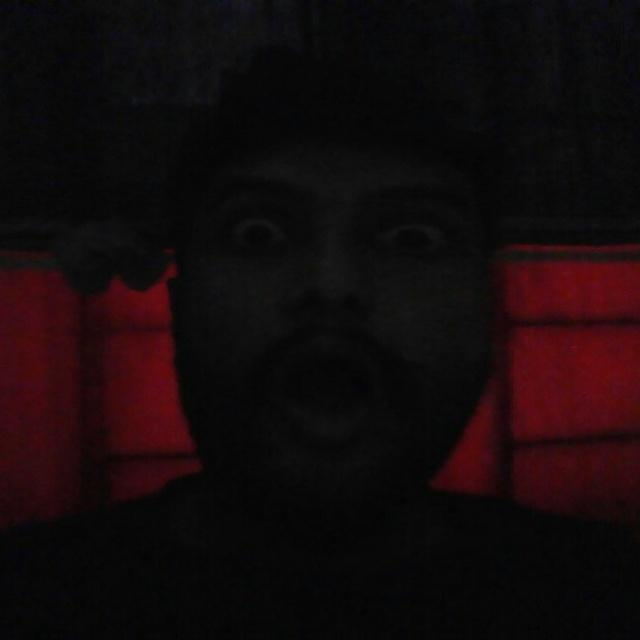Surprised: (135, 106, 521, 524)
